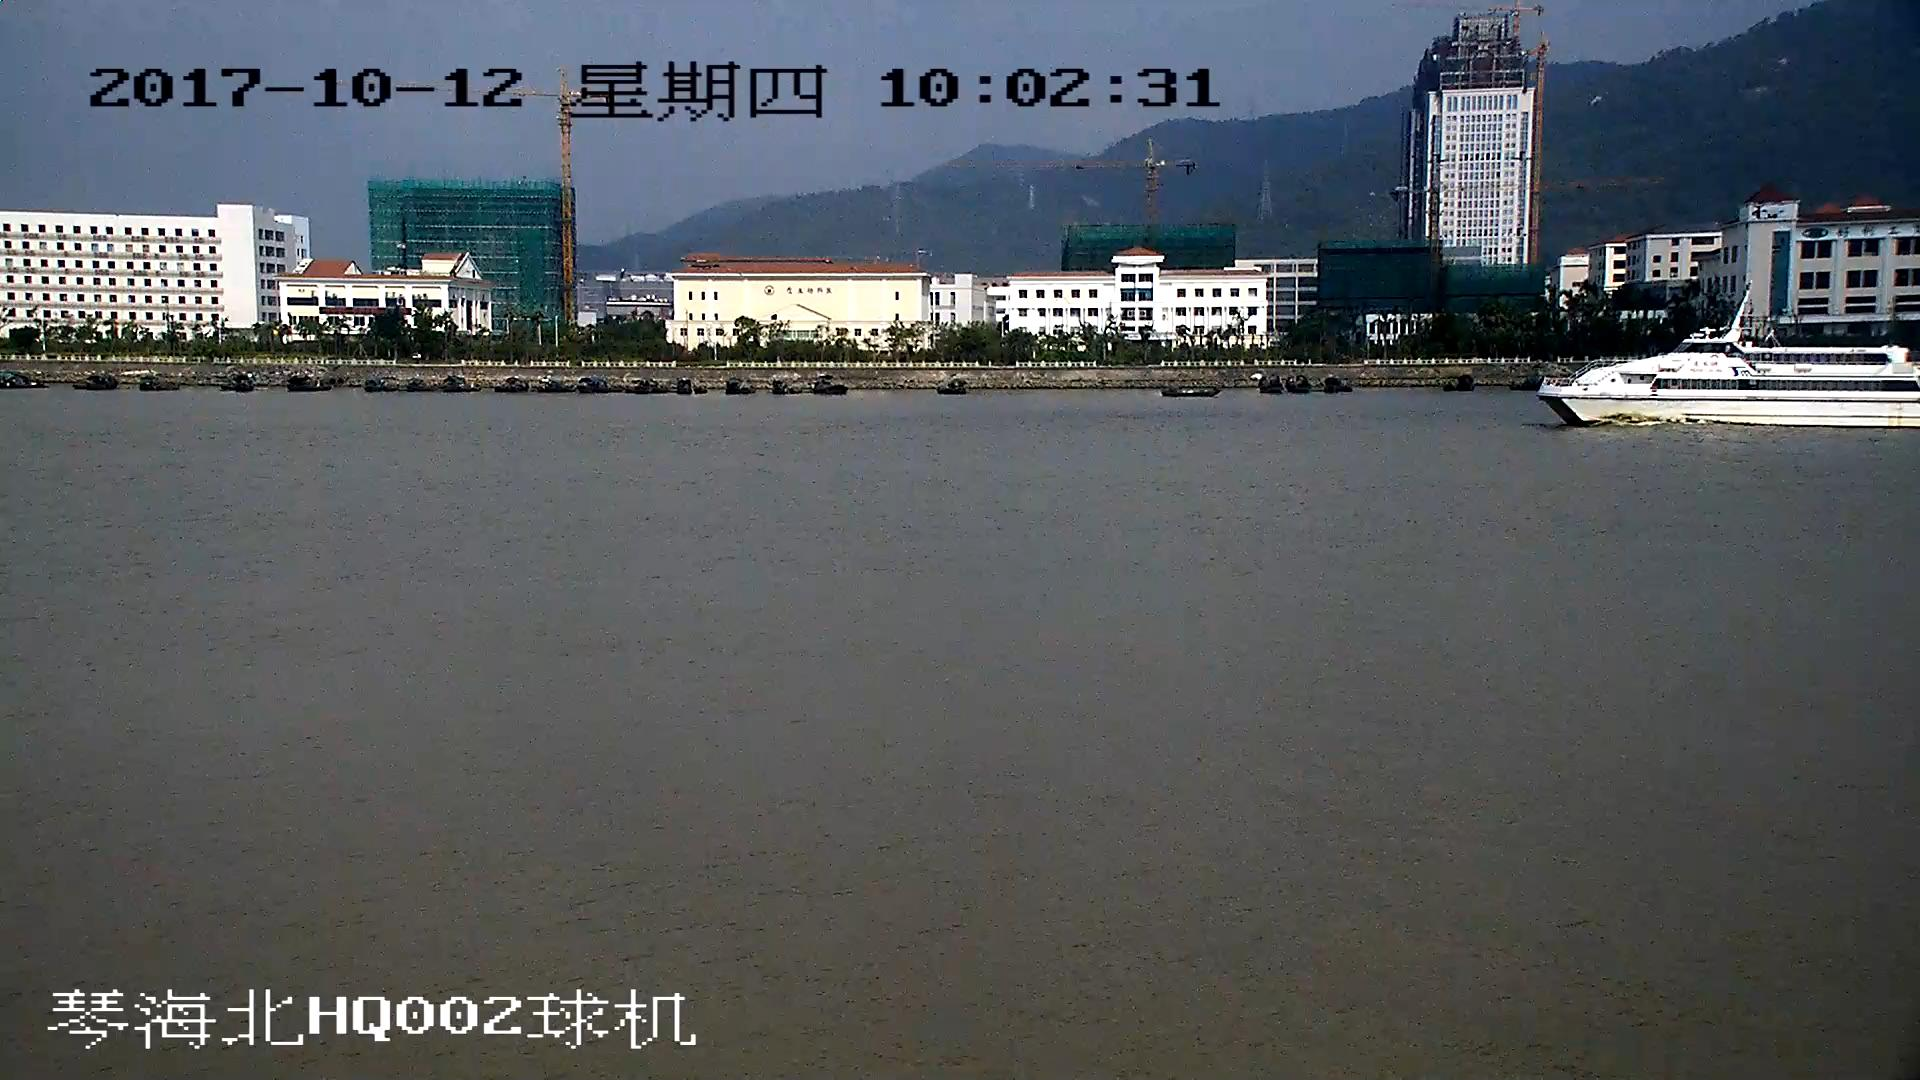passenger ship: (1546, 291, 1920, 431)
